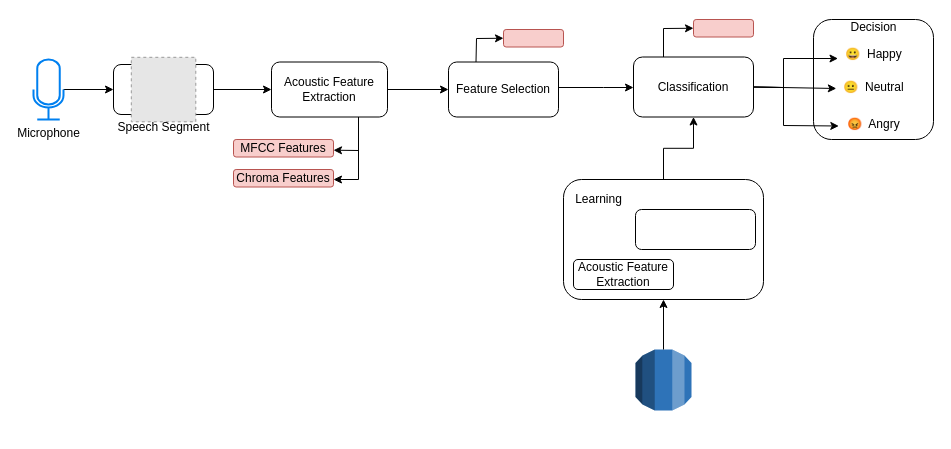
Some shapes in this 951 by 449 pixel diagram are drawn without their labels. Grey dashed boxes stand in for pictures. The shapes that lost their labels are listed below. From the top down, each one's centre as x and y in pixels, then its label:
(x=533, y=37): LR-RFE
(x=723, y=27): MLP
(x=695, y=229): Decision functions Acoustic models
(x=663, y=379): Dataset
